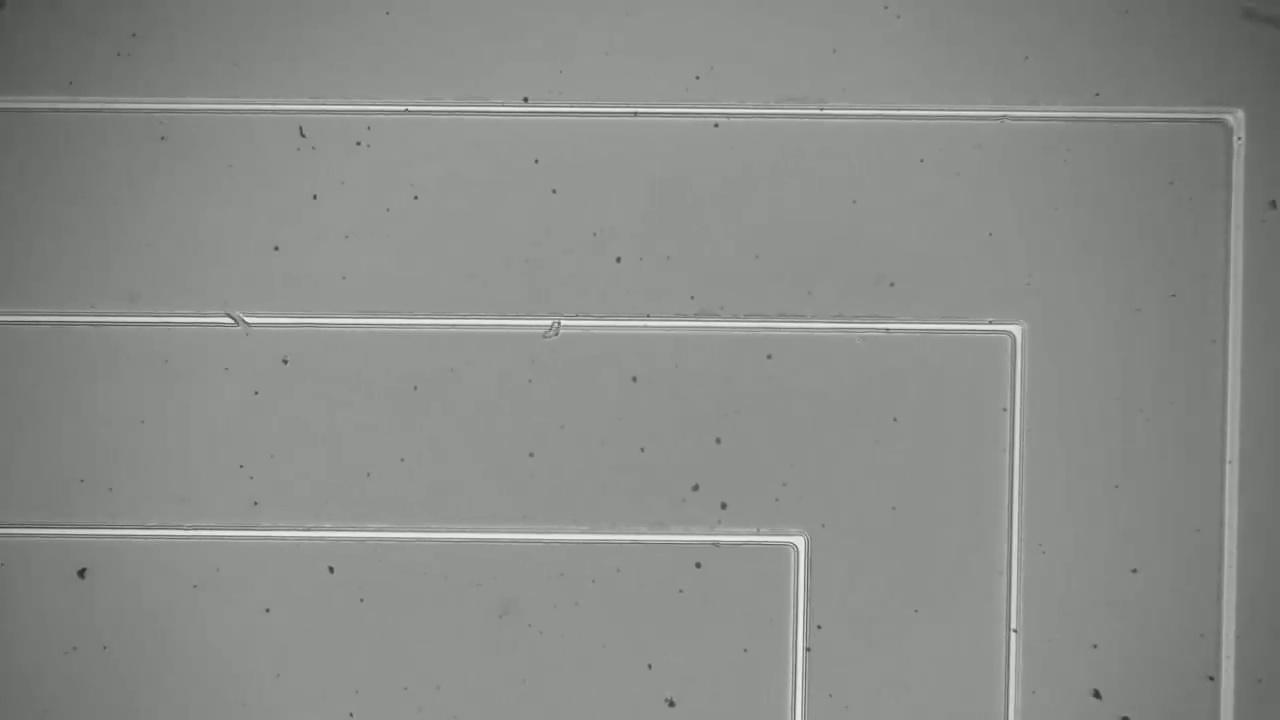open: (218, 301, 255, 340)
stains_enbedded: (531, 304, 569, 352)
